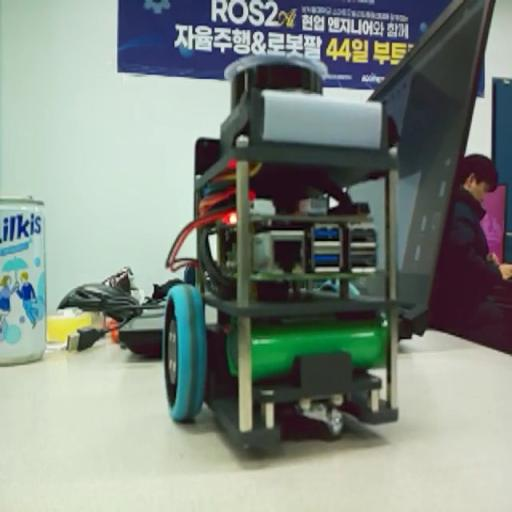pinky_63: (159, 49, 414, 456)
